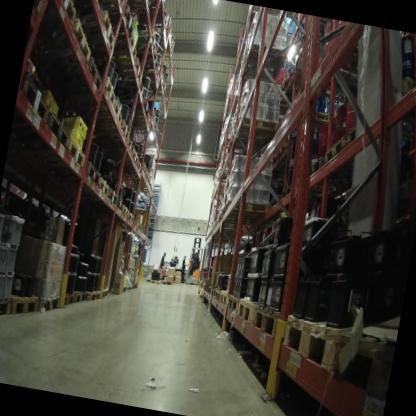forklift: (180, 232, 208, 288)
pallet: (276, 296, 348, 384), (330, 309, 398, 397), (43, 47, 111, 95), (74, 3, 122, 51), (381, 67, 416, 130), (15, 77, 55, 132), (233, 108, 286, 145), (38, 0, 85, 39), (221, 193, 271, 228), (307, 153, 355, 189), (125, 26, 163, 71), (42, 105, 77, 153), (238, 40, 286, 72), (83, 94, 128, 128), (91, 114, 134, 148), (66, 12, 96, 59), (225, 132, 277, 158), (104, 28, 141, 63), (321, 128, 348, 175), (249, 304, 282, 342), (106, 51, 145, 83), (344, 114, 373, 154), (133, 181, 155, 232), (7, 290, 41, 319), (112, 1, 138, 37), (305, 105, 337, 134), (65, 135, 90, 171), (217, 206, 259, 226), (121, 90, 153, 116), (80, 160, 105, 192), (112, 144, 143, 169), (102, 72, 124, 107), (273, 138, 301, 164), (211, 217, 248, 236), (235, 295, 258, 325), (36, 292, 62, 318), (140, 2, 168, 26), (128, 106, 153, 132), (150, 23, 176, 47), (136, 65, 163, 87), (148, 40, 175, 60), (79, 0, 125, 11), (97, 284, 130, 299), (95, 172, 112, 199), (133, 79, 149, 104), (132, 169, 156, 185), (140, 0, 169, 12), (0, 296, 11, 327), (57, 290, 75, 308), (83, 286, 101, 304), (106, 186, 119, 209), (226, 293, 240, 314), (71, 289, 87, 306), (32, 0, 47, 17), (218, 289, 230, 308), (157, 64, 168, 83), (113, 197, 125, 213), (212, 284, 222, 302), (127, 136, 137, 154), (135, 158, 146, 174), (120, 203, 130, 220), (141, 161, 151, 176), (127, 212, 135, 225), (210, 285, 217, 299), (203, 276, 211, 287), (207, 283, 213, 297), (161, 80, 167, 93), (132, 281, 139, 289), (203, 284, 208, 294)
